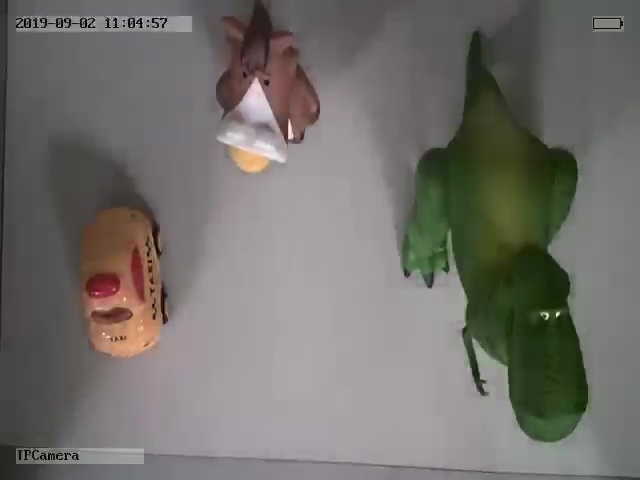car: (79, 204, 170, 358)
horse: (212, 5, 322, 173)
rex: (400, 47, 590, 443)
